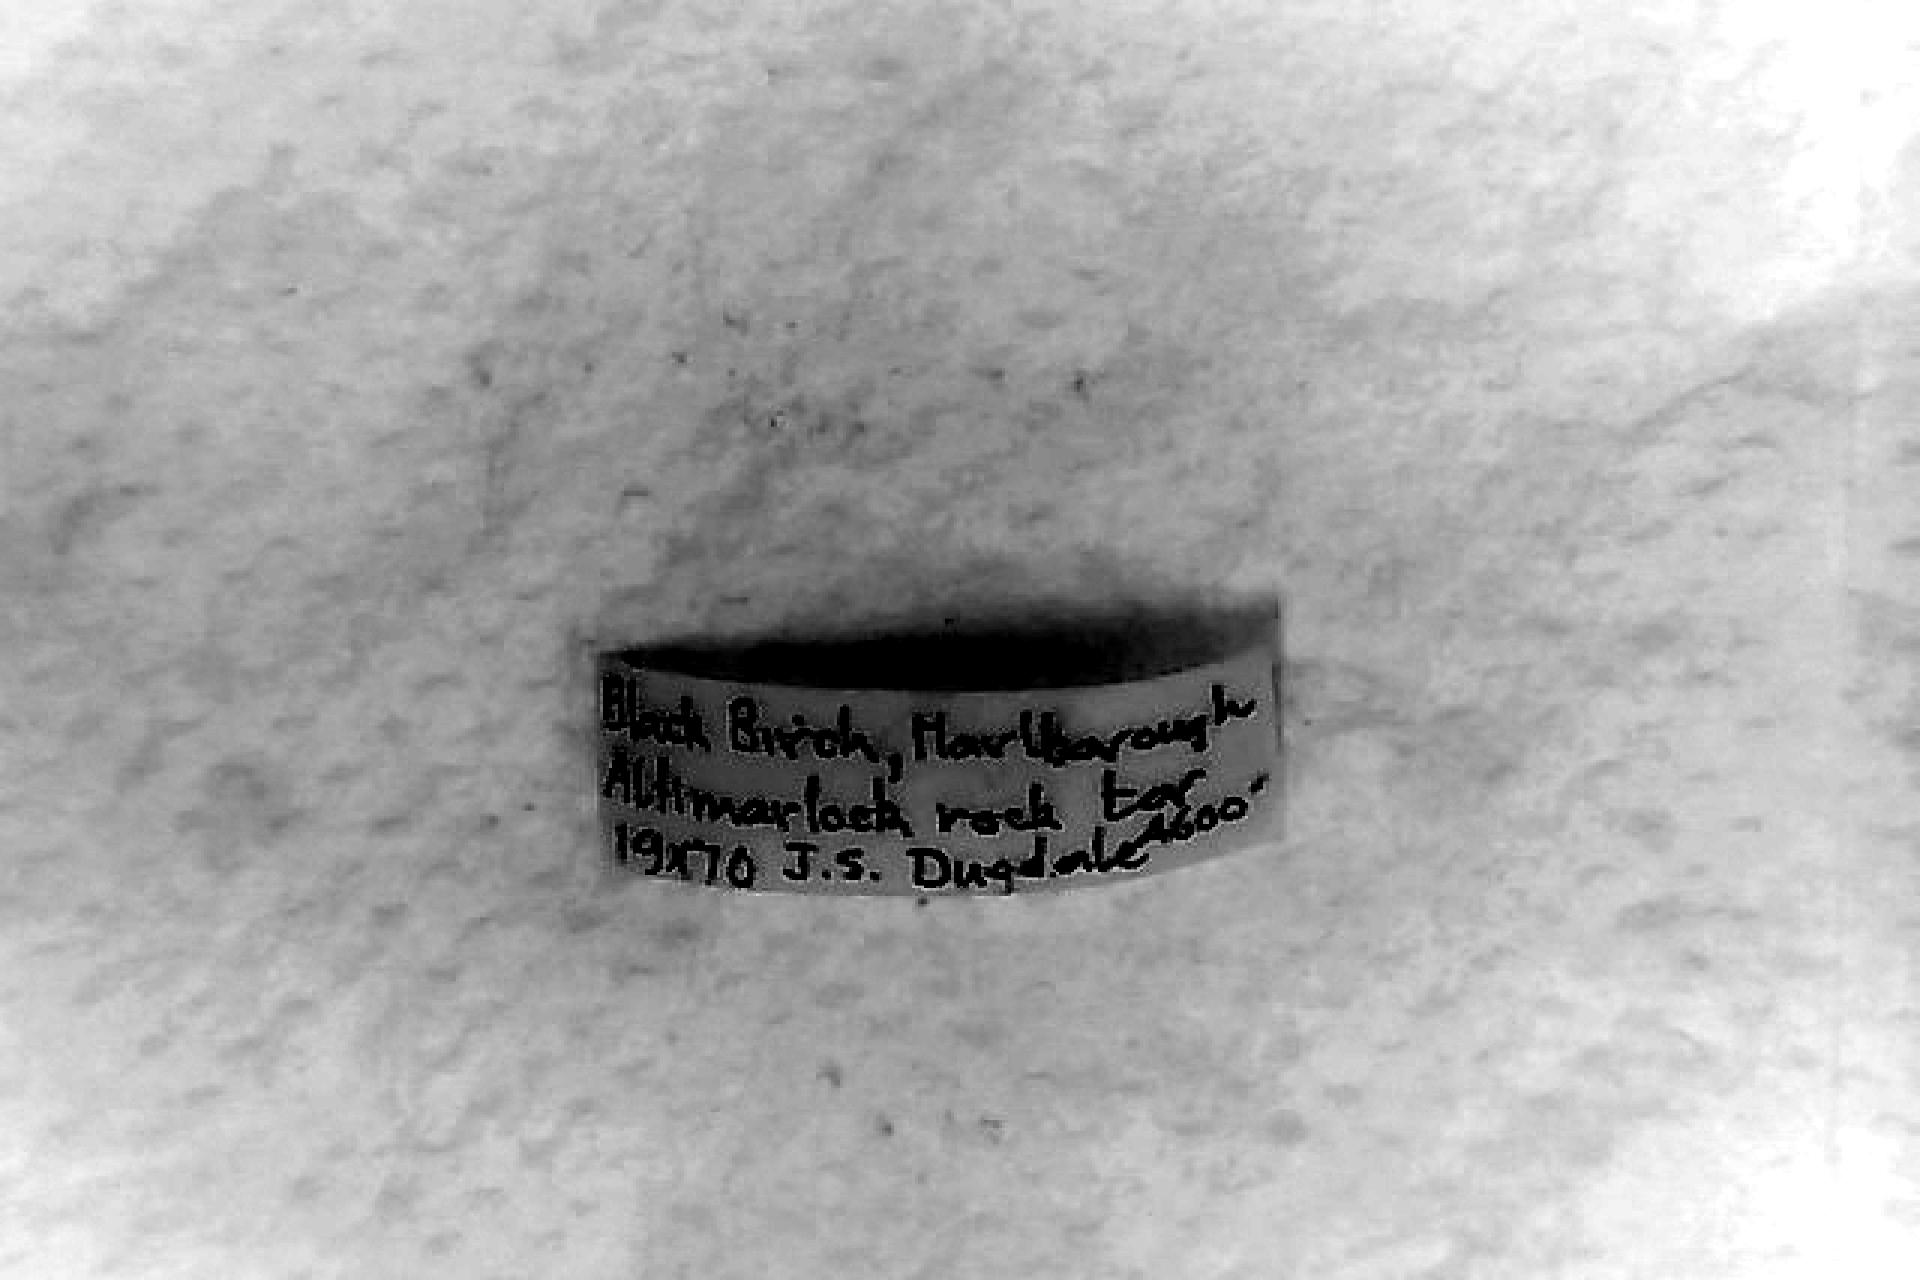hand_label: (600, 655, 1279, 892)
